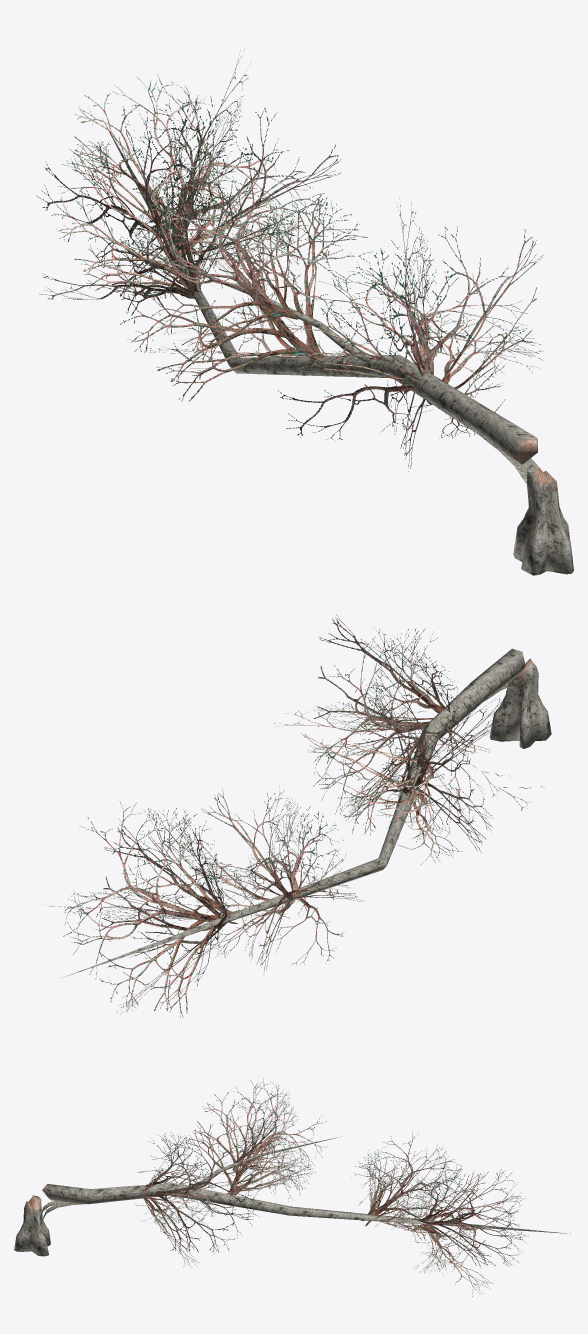
File: decd_whitebirchfallen_l0.fbx
3 views of the same model, one above another, from view 1: azimuth 30°, elevation 25°; view 2: azimuth 150°, elevation 25°; view 3: azimuth 270°, elevation 25° (orthographic). The views are drawn at different scales.
Visible parts, largest first — view 1: mesh_node; view 2: mesh_node; view 3: mesh_node.
Part boxes in pixels (x1,y1,x2,y2): mesh_node: (36, 49, 573, 575); mesh_node: (44, 614, 551, 1017); mesh_node: (14, 1078, 570, 1296).
Size of the model in its own units: 4.71 by 3.97 by 10.01.
